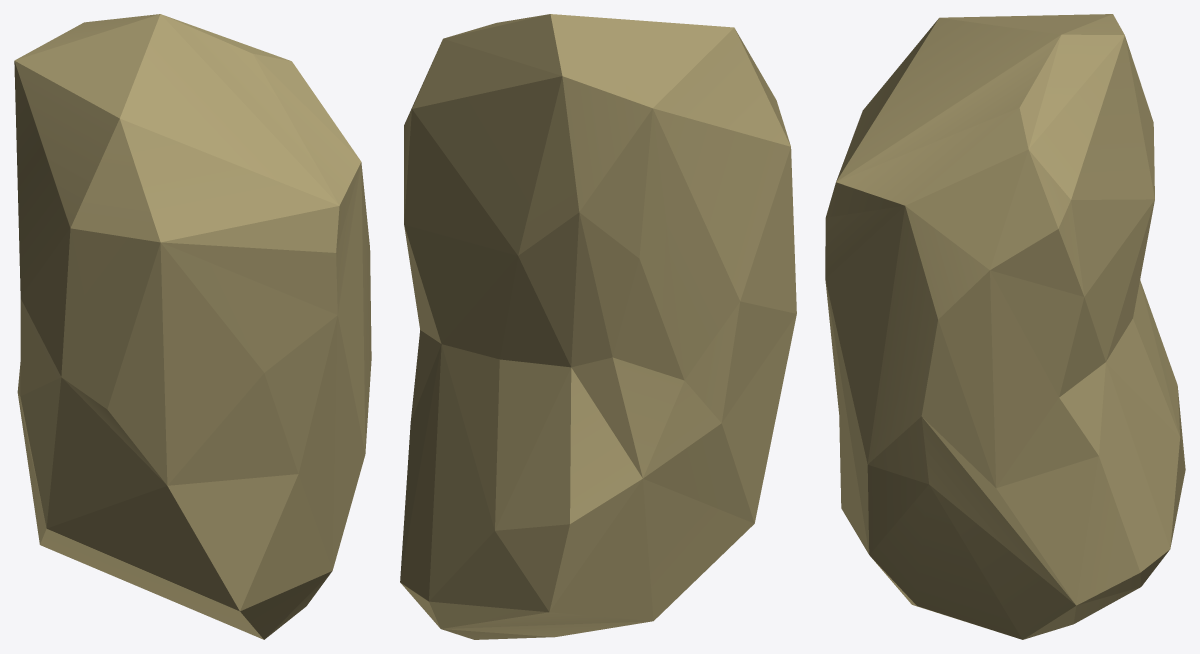
Rendered from SM_small_rock_38.fbx.
3 renders of one model, left to right at view 1: azimuth 30°, elevation 25°; view 2: azimuth 150°, elevation 25°; view 3: azimuth 270°, elevation 25°, orthographic. The views are drawn at different scales.
Parts seen in each view (by area): view 1: small_rock_38; view 2: small_rock_38; view 3: small_rock_38.
Part boxes in pixels (x1,y1,x2,y2): small_rock_38: [14, 14, 371, 639]; small_rock_38: [400, 14, 796, 639]; small_rock_38: [825, 14, 1185, 639].
Size of the model in its own units: 82.66 by 150 by 86.7.
